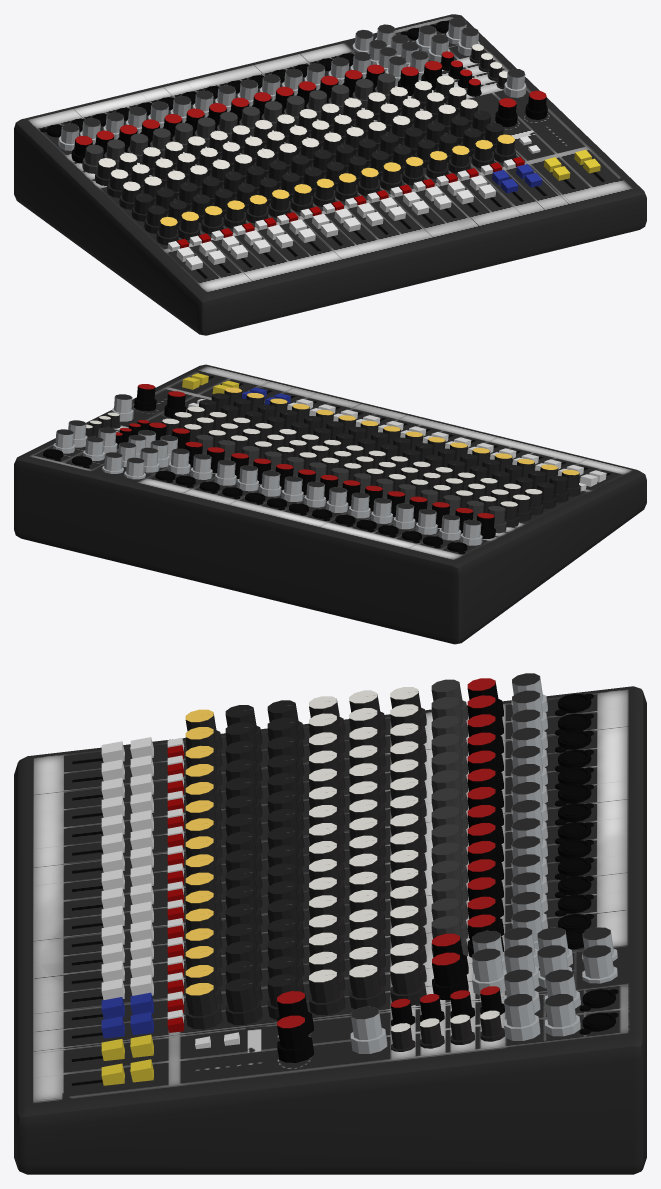
File: M_BRoomConsol.fbx
3 renders of one model, top to bottom at view 1: azimuth 30°, elevation 25°; view 2: azimuth 150°, elevation 25°; view 3: azimuth 270°, elevation 25°, orthographic. The views are drawn at different scales.
Visible parts, largest first — view 1: consol_GEO, button7_GEO, button6_GEO, button2_GEO, button5_GEO, square1_GEO, button1_GEO, button4_GEO, button3_GEO, square2_GEO, square3_GEO, square4_GEO; view 2: consol_GEO, button2_GEO, button7_GEO, button6_GEO, button1_GEO, button5_GEO, button4_GEO, button3_GEO, square1_GEO, square4_GEO; view 3: consol_GEO, button7_GEO, button6_GEO, button2_GEO, button1_GEO, square1_GEO, button5_GEO, button3_GEO, button4_GEO, square2_GEO, square4_GEO, square3_GEO.
Boxes of the visible parts, <box> form: consol_GEO: <box>14,14,646,335</box>; button7_GEO: <box>95,44,507,209</box>; button6_GEO: <box>131,110,503,233</box>; button2_GEO: <box>58,18,526,150</box>; button5_GEO: <box>156,134,516,245</box>; square1_GEO: <box>167,136,540,270</box>; button1_GEO: <box>71,51,547,163</box>; button4_GEO: <box>82,73,395,173</box>; button3_GEO: <box>40,21,448,137</box>; square2_GEO: <box>177,157,524,248</box>; square3_GEO: <box>492,164,542,193</box>; square4_GEO: <box>544,149,600,180</box>; consol_GEO: <box>14,364,646,644</box>; button2_GEO: <box>53,394,482,545</box>; button7_GEO: <box>85,406,543,527</box>; button6_GEO: <box>199,393,568,508</box>; button1_GEO: <box>115,384,495,538</box>; button5_GEO: <box>224,387,580,496</box>; button4_GEO: <box>195,434,506,533</box>; button3_GEO: <box>43,449,467,553</box>; square1_GEO: <box>188,398,606,491</box>; square4_GEO: <box>182,373,239,393</box>; consol_GEO: <box>14,686,646,1174</box>; button7_GEO: <box>309,687,504,1051</box>; button6_GEO: <box>225,700,304,1024</box>; button2_GEO: <box>350,673,617,1053</box>; button1_GEO: <box>277,678,504,1062</box>; square1_GEO: <box>101,737,239,1049</box>; button5_GEO: <box>185,709,222,1029</box>; button3_GEO: <box>555,694,618,1034</box>; button4_GEO: <box>431,679,468,957</box>; square2_GEO: <box>167,745,184,1032</box>; square4_GEO: <box>101,1034,153,1085</box>; square3_GEO: <box>101,992,153,1038</box>.
Bounding box in the file's own units: 43.16 × 8.83 × 31.65.
Materials: 12 (7 with a texture image).
